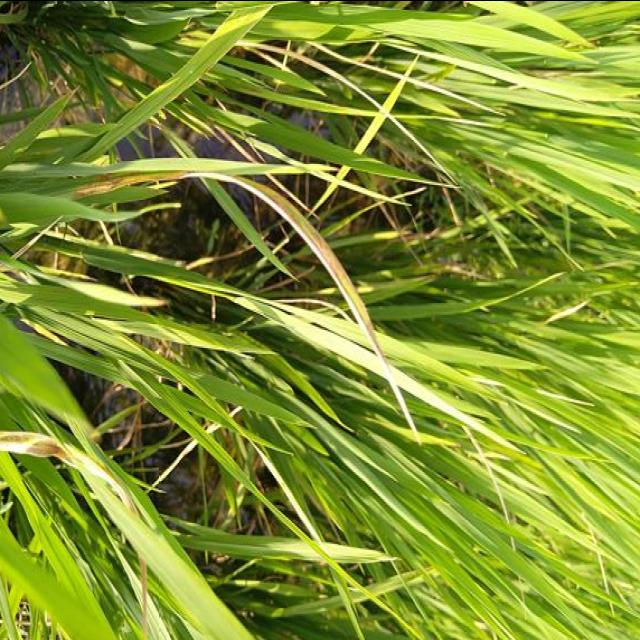Leaf Streak: (69, 170, 386, 365), (0, 428, 147, 640)
